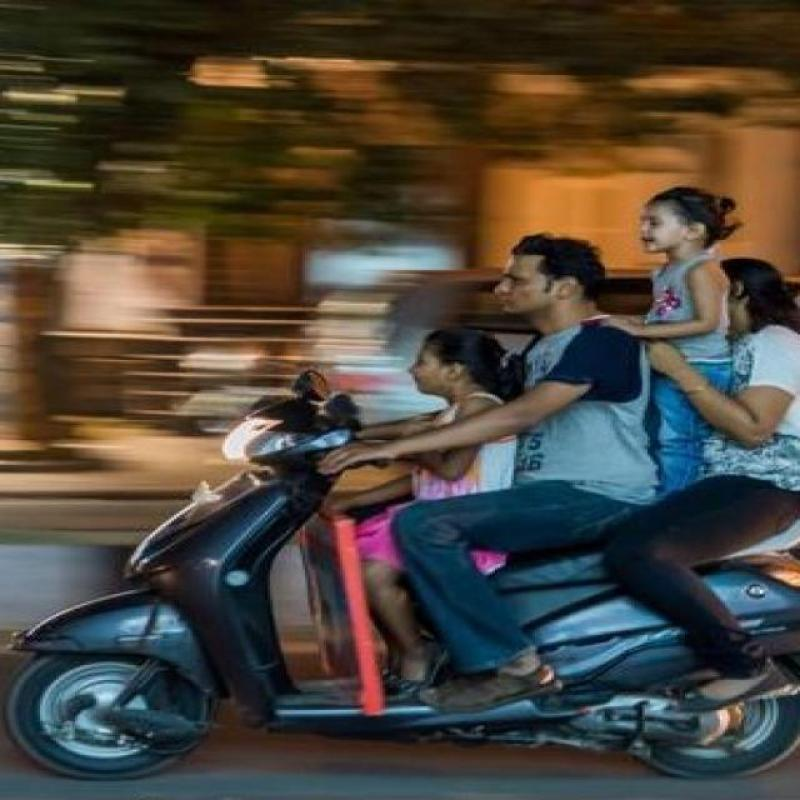nohelmet: (455, 234, 609, 332), (623, 194, 729, 277), (390, 336, 512, 392)
